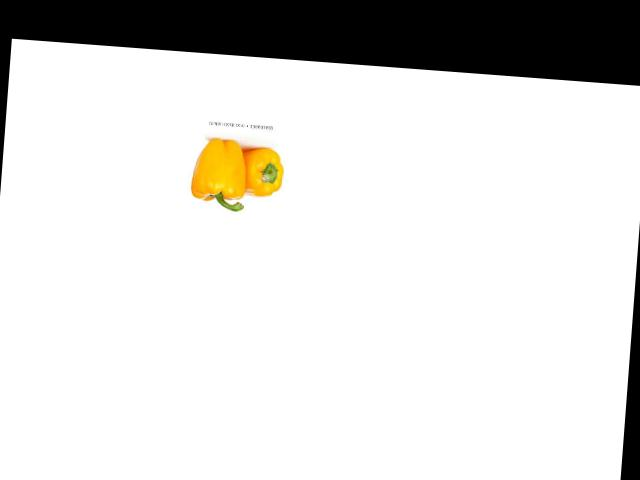bell_pepper: (237, 143, 286, 202)
